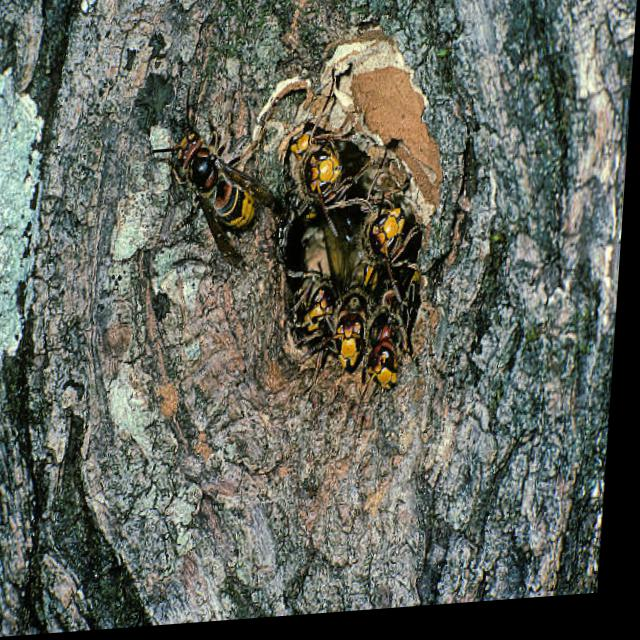Vespa Crabro: (140, 113, 272, 256), (278, 101, 368, 223), (360, 193, 441, 289), (290, 244, 347, 365), (334, 280, 382, 401)
